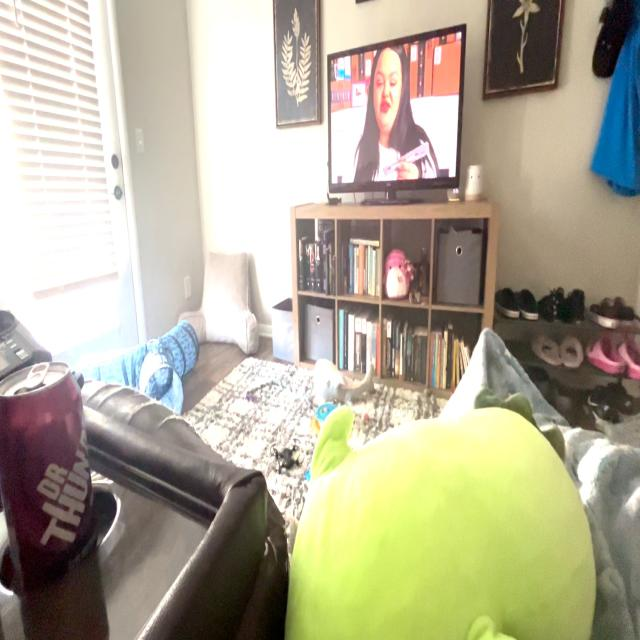drone: (264, 431, 312, 484)
